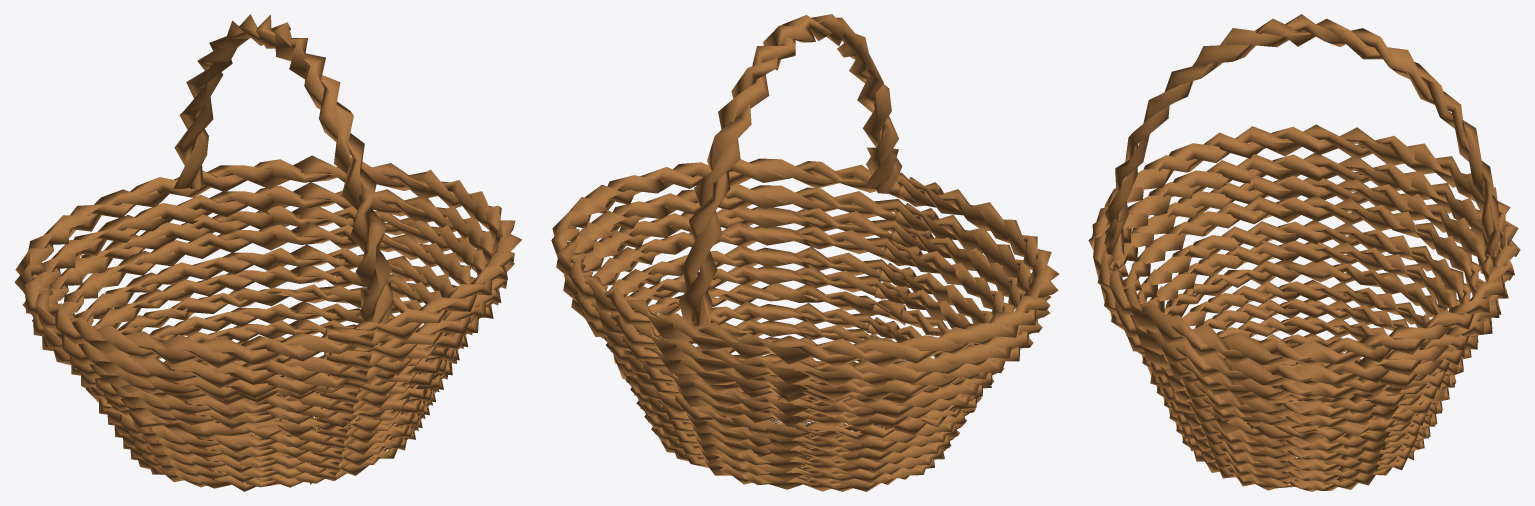
File: I_Basket_1.fbx
3 views of the same model, side by side, from view 1: azimuth 30°, elevation 25°; view 2: azimuth 150°, elevation 25°; view 3: azimuth 270°, elevation 25° (orthographic).
Visible parts, largest first — view 1: Circle.011; view 2: Circle.011; view 3: Circle.011.
Boxes of the visible parts, x1,y1,x2,y2 form: Circle.011: (14,14,521,491); Circle.011: (551,14,1059,491); Circle.011: (1088,14,1520,491).
Size of the model in its own units: 44.59 by 38.14 by 35.79.
